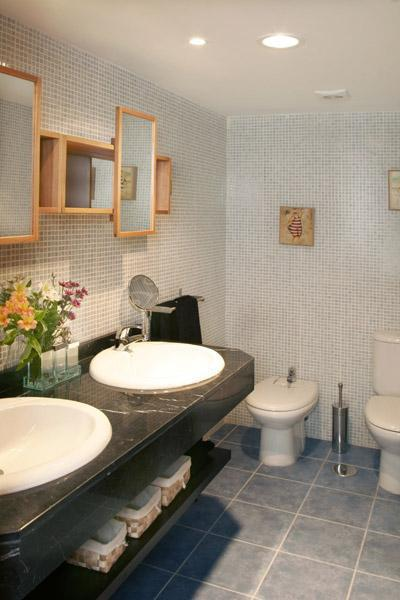Lavamanos: (1, 395, 113, 510), (95, 320, 233, 395)
Otro Obstaculo: (328, 380, 349, 455)
Sanitario: (251, 372, 325, 468), (369, 330, 396, 496)
